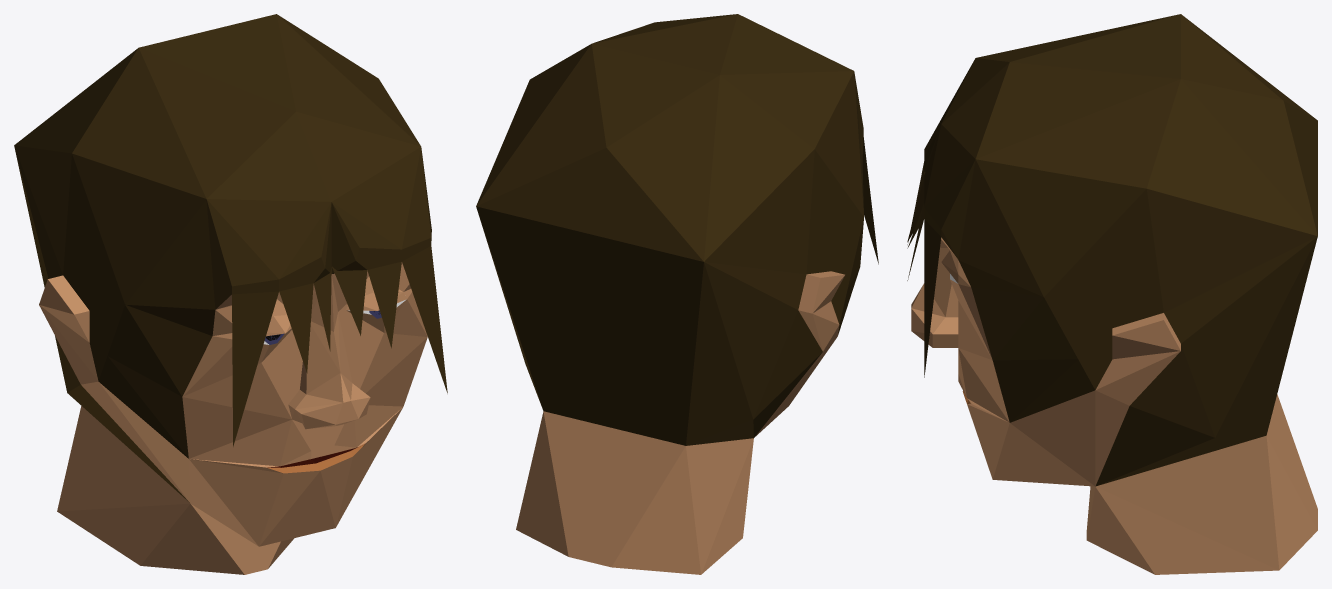
File: model_55_idk_head.obj
3 views of the same model, side by side, from view 1: azimuth 30°, elevation 25°; view 2: azimuth 150°, elevation 25°; view 3: azimuth 270°, elevation 25° (orthographic). The views are drawn at different scales.
Visible parts, largest first — view 1: 55; view 2: 55; view 3: 55.
Part boxes in pixels (bbox=[...]): 55: bbox=[14, 14, 447, 574]; 55: bbox=[476, 14, 878, 574]; 55: bbox=[907, 14, 1317, 574].
Size of the model in its own units: 88 by 126 by 96.
